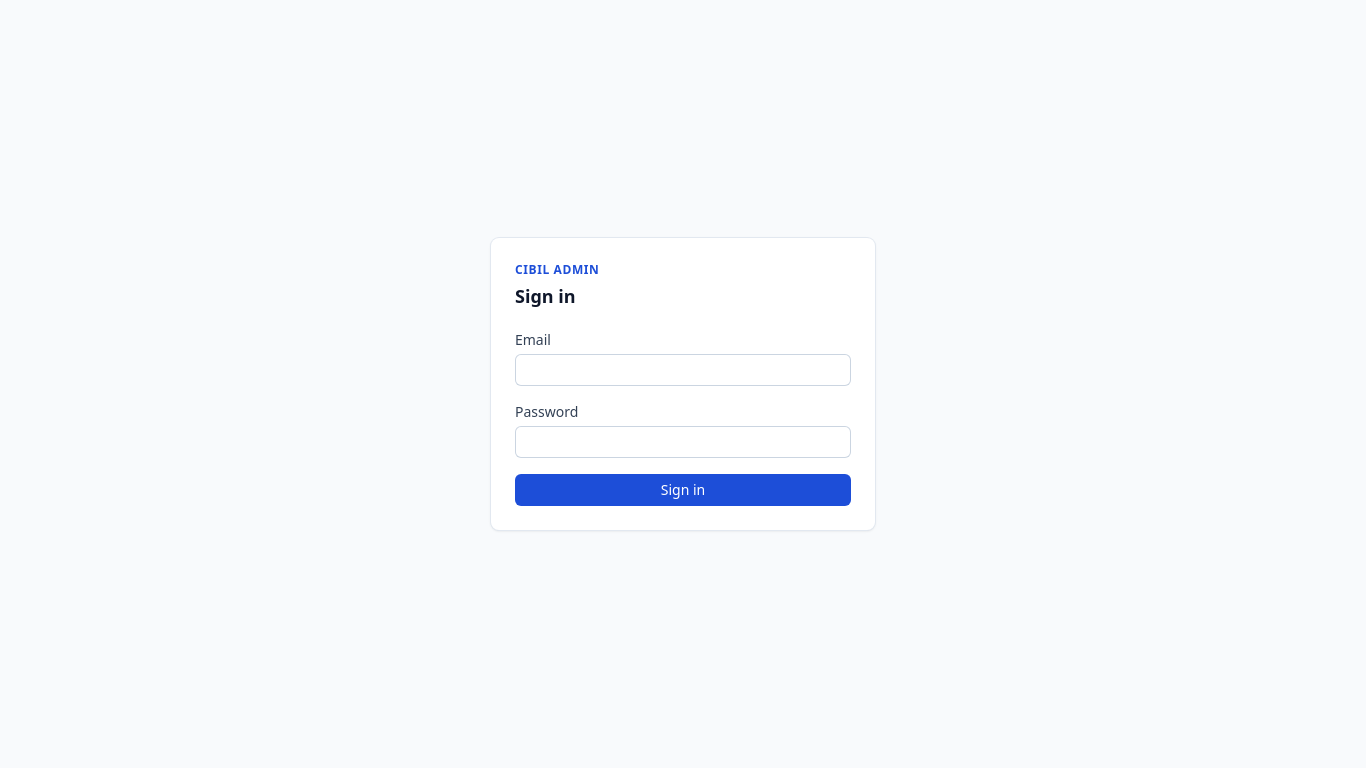
Test case: sign-in › goes login -> 2FA -> dashboard
In the field labelled "Email": coordinates (683, 370) x1=515 y1=354 x2=851 y2=386, type "me@example.com"
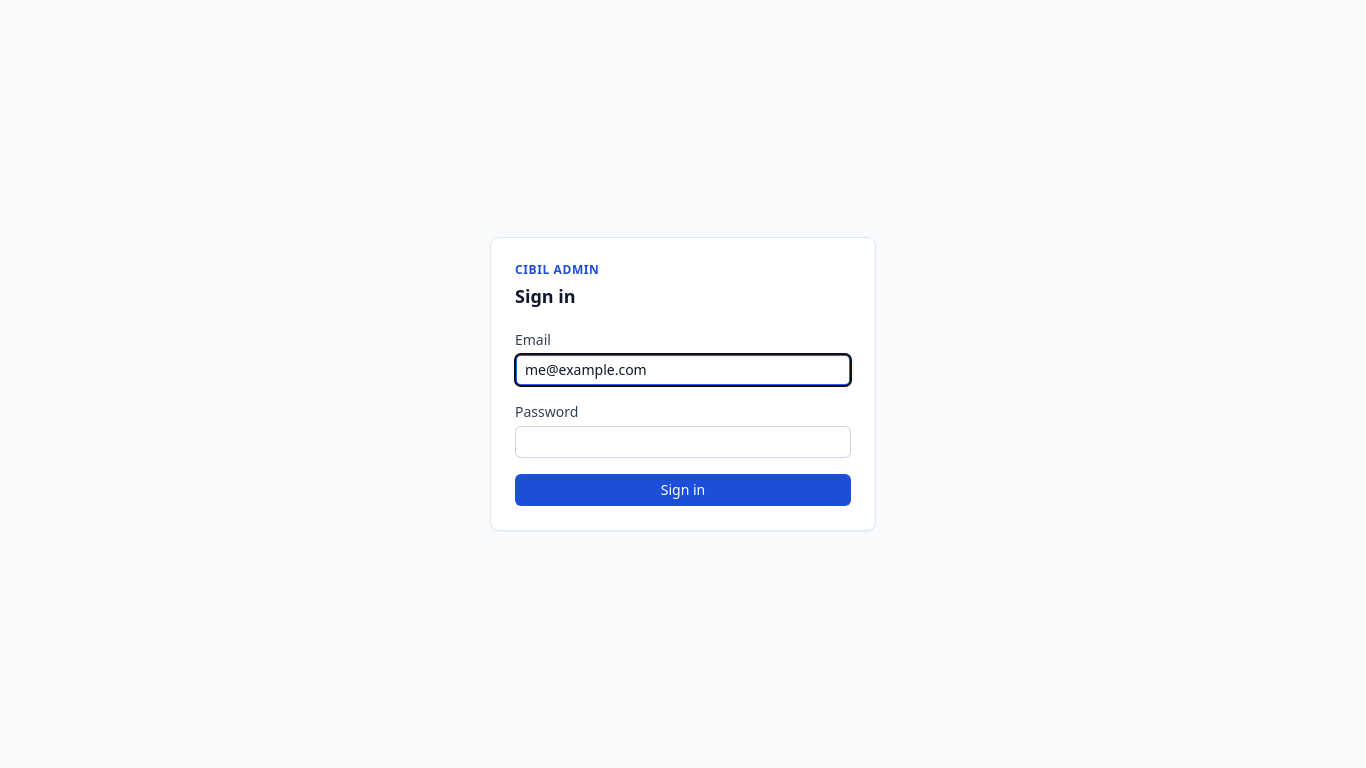
In the password field labelled "Password": coordinates (683, 442) x1=515 y1=426 x2=851 y2=458, type "a-long-password"
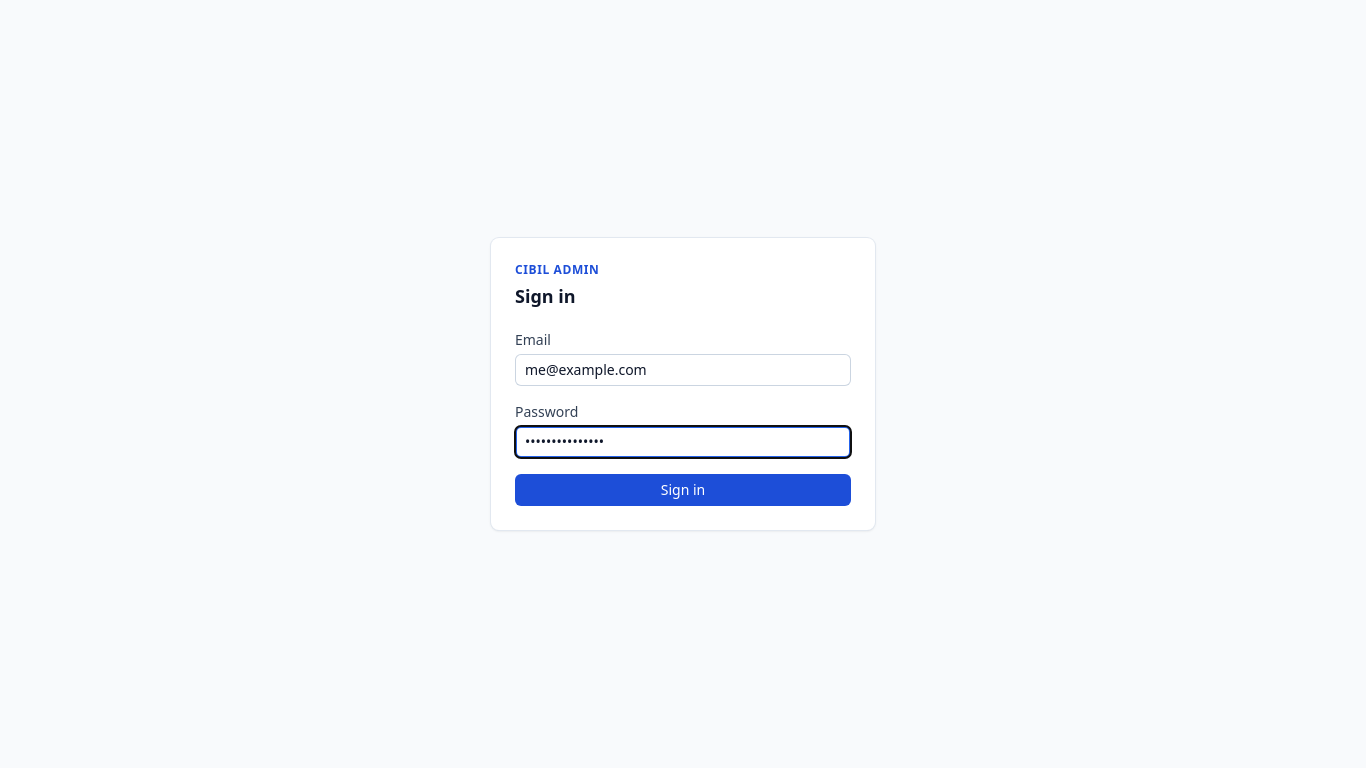
Click the button "Sign in": coordinates (683, 490) x1=515 y1=474 x2=851 y2=506
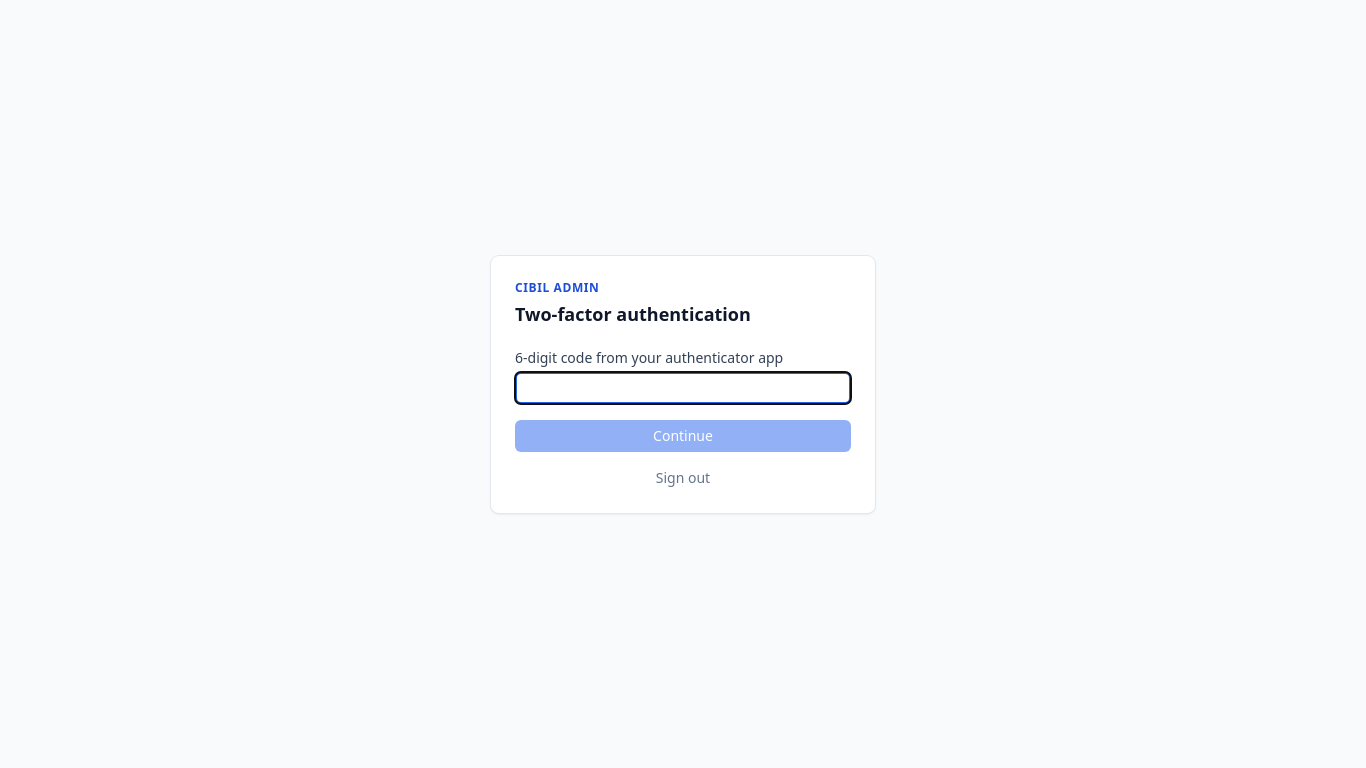
In the field labelled "6-digit code from your authenticator app": coordinates (683, 388) x1=515 y1=372 x2=851 y2=404, type "123456"
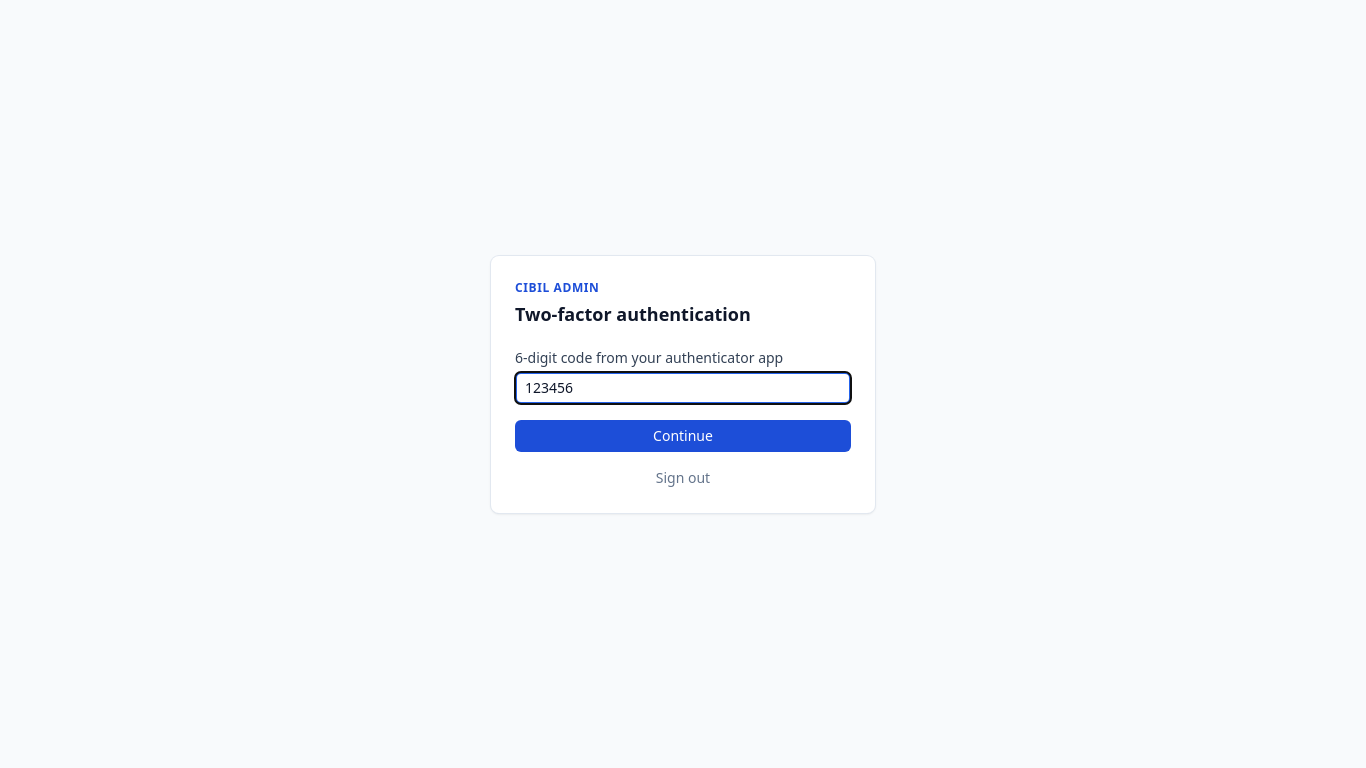
Click the button "Continue": coordinates (683, 436) x1=515 y1=420 x2=851 y2=452
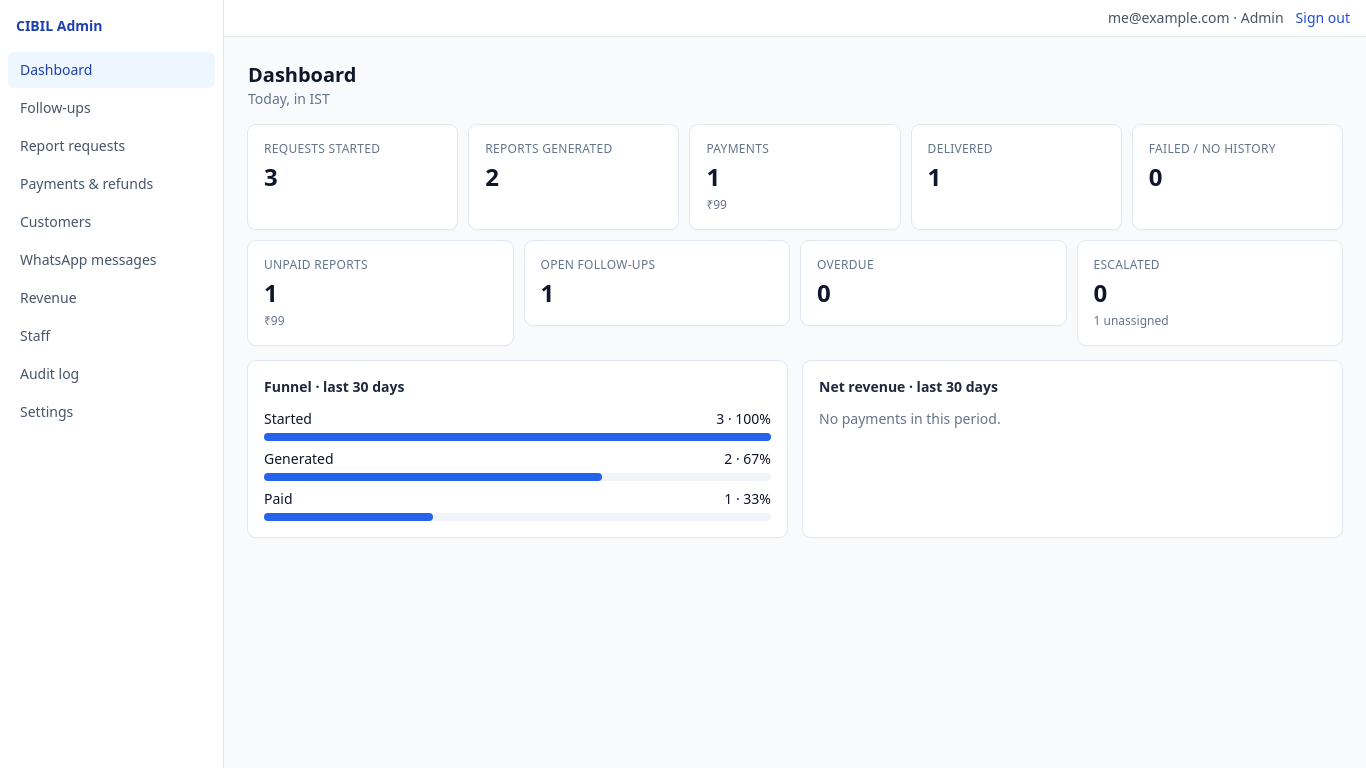
Expected: the heading "Dashboard" is shown, x1=248 y1=61 x2=356 y2=89
